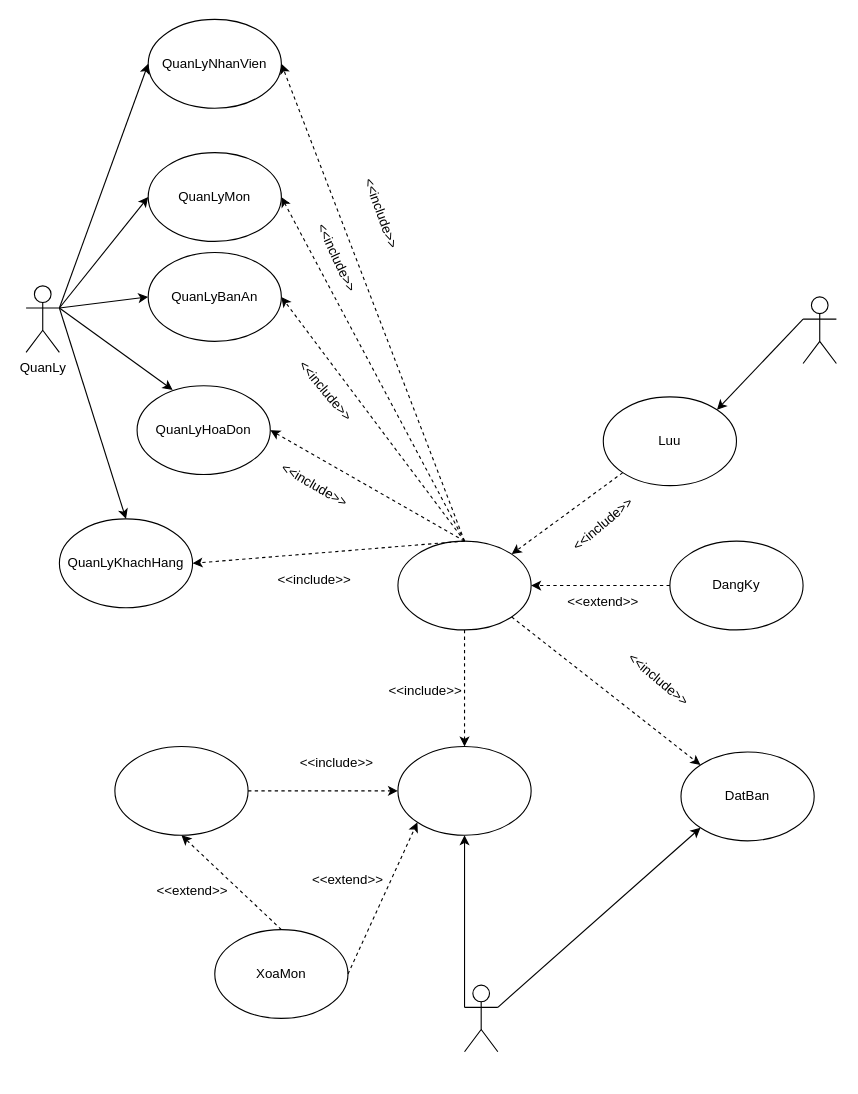
Image size: 858x1094. Some labels were removed from this diagram. The centre of each missing label's shape, as x and y in pixels:
DangNhap: [464,585]
DatMon: [464,790]
LuuHoaDon: [181,790]
NhanVien: [480,1018]
Server: [819,330]
